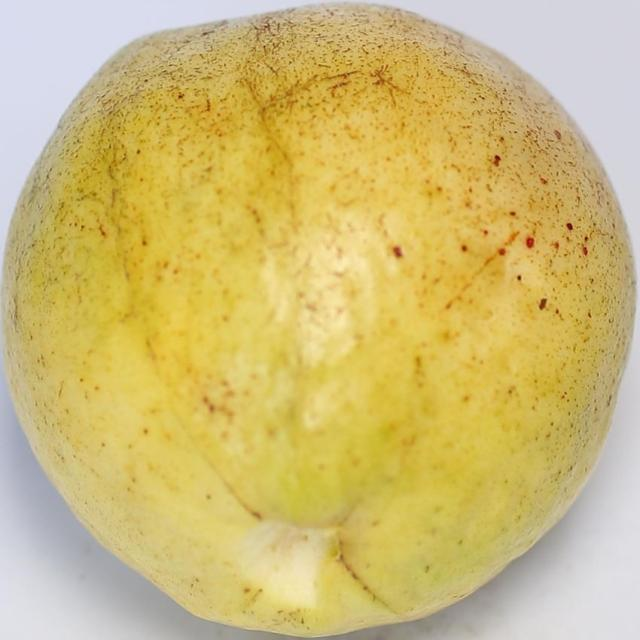Good_Guava: (0, 4, 636, 640)
